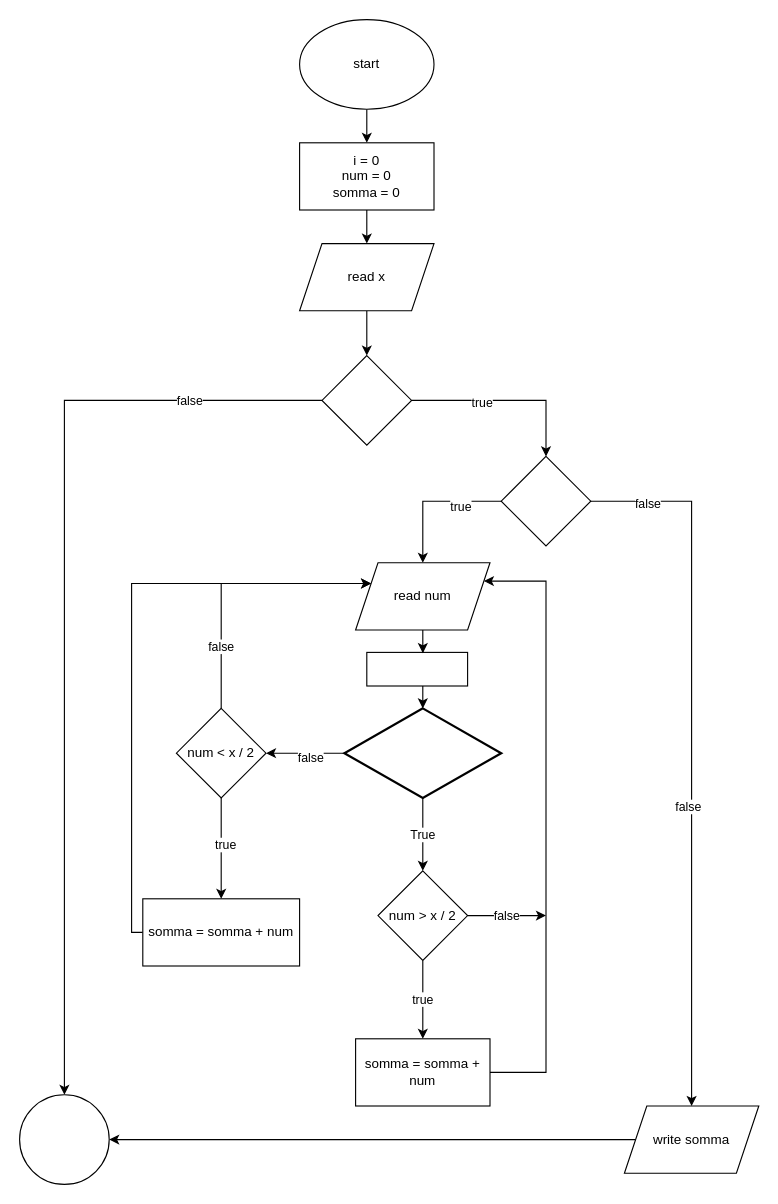
The diagram is 778 pixels wide and 1204 high, and some of its shapes have lost their labels. The centre of each missing label's shape, as x and y in pixels:
end: pixel 63 1139
i = i + 1: pixel 417 668
i<=10: pixel 545 500
num % 2 == 0: pixel 422 753
x > 0: pixel 366 399
